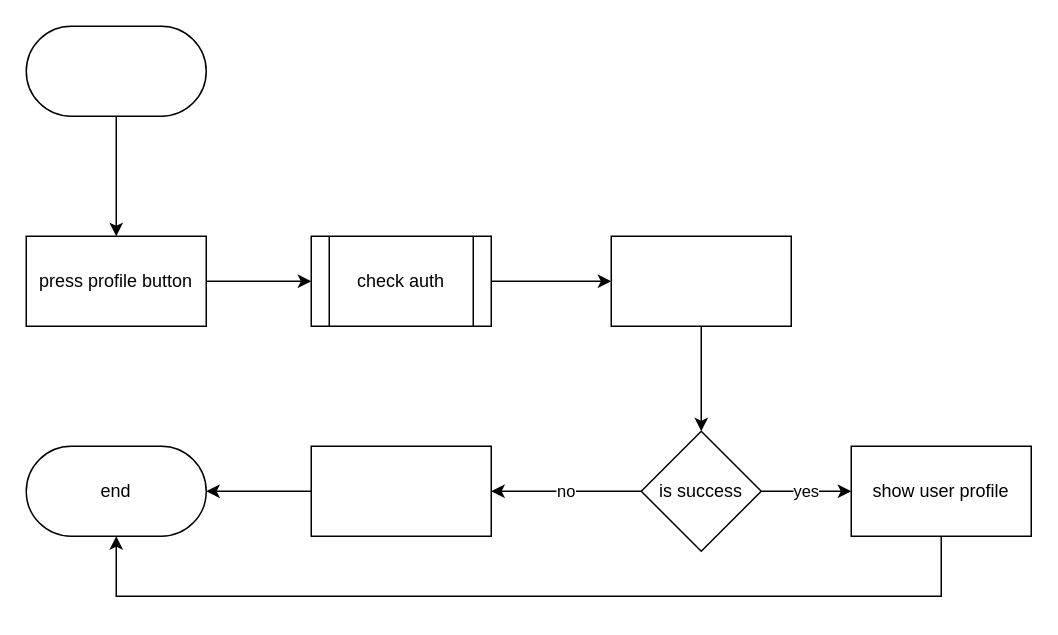
This 1058x635 diagram has some shape labels left out. Each missing label, with the centre of its shape:
"show error" belongs at point 400,490.
"start" belongs at point 115,70.
"use access token to get current profile" belongs at point 700,280.
